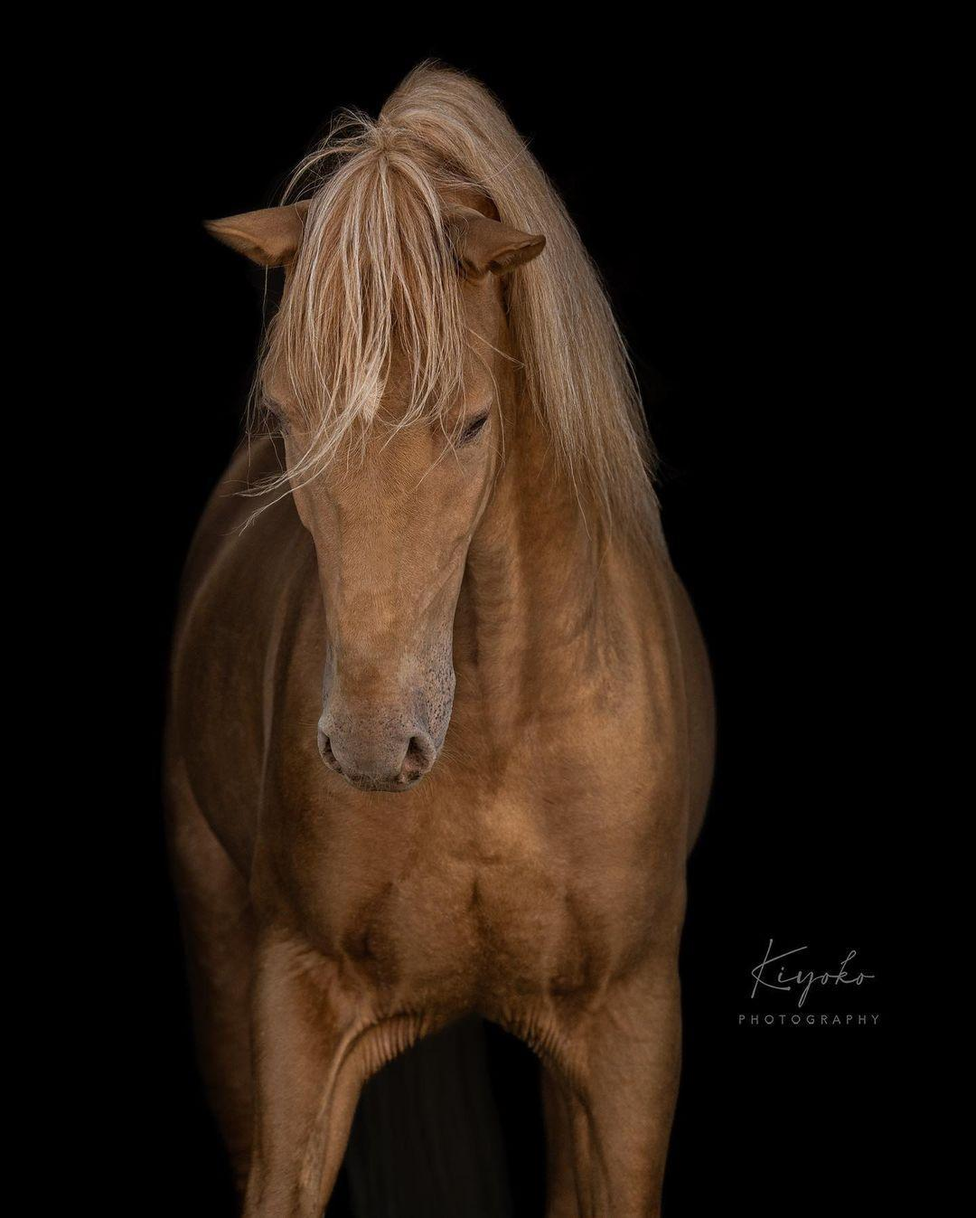horse: (161, 58, 717, 1215)
